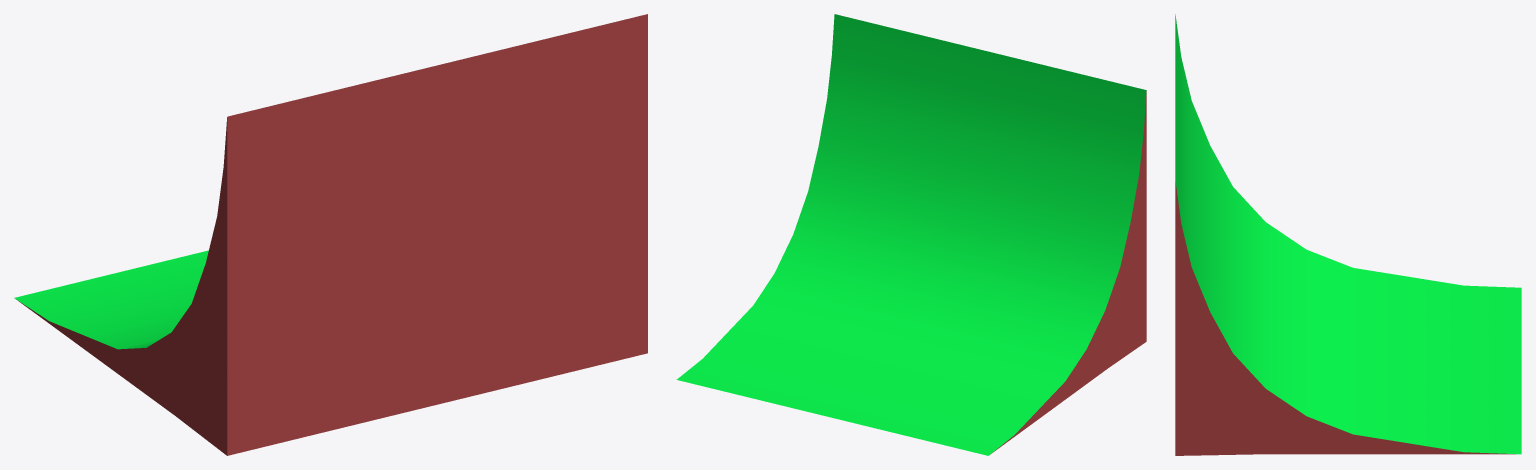
File: 90_degree_ramp (1).fbx
3 views of the same model, side by side, from view 1: azimuth 30°, elevation 25°; view 2: azimuth 150°, elevation 25°; view 3: azimuth 270°, elevation 25° (orthographic). The views are drawn at different scales.
Parts seen in each view (by area): view 1: _degree_ramp:pCylinder1; view 2: _degree_ramp:pCylinder1; view 3: _degree_ramp:pCylinder1.
Part boxes in pixels (x1,y1,x2,y2): _degree_ramp:pCylinder1: (14,14,647,455); _degree_ramp:pCylinder1: (676,14,1146,455); _degree_ramp:pCylinder1: (1175,14,1521,455).
Bounding box in the file's own units: 2881 × 2220 × 2528.
